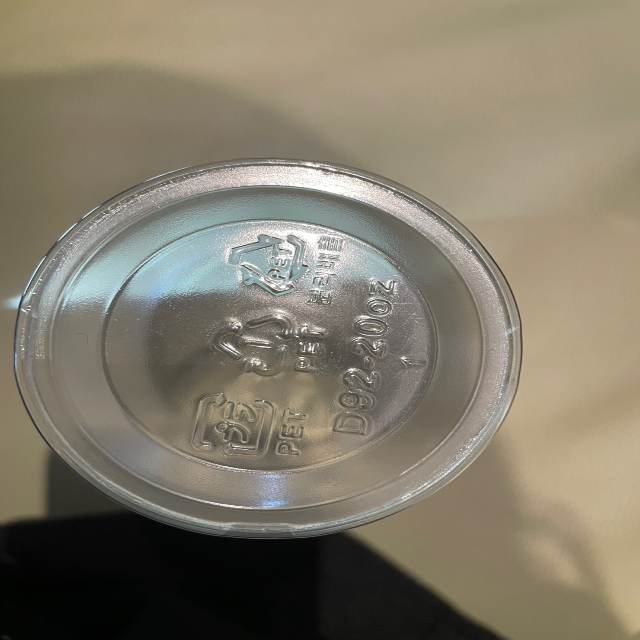pet: (222, 223, 347, 314), (180, 387, 307, 462), (210, 307, 326, 378)
